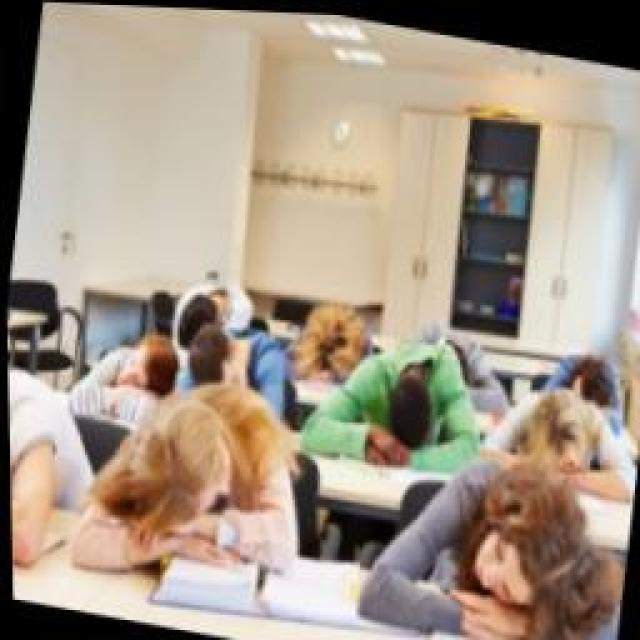sleep: (65, 355, 317, 605), (342, 432, 632, 640), (290, 320, 492, 482), (470, 370, 640, 505), (52, 310, 182, 428), (172, 310, 292, 425), (272, 287, 378, 395), (403, 310, 515, 412), (157, 270, 255, 362), (522, 340, 630, 415)
